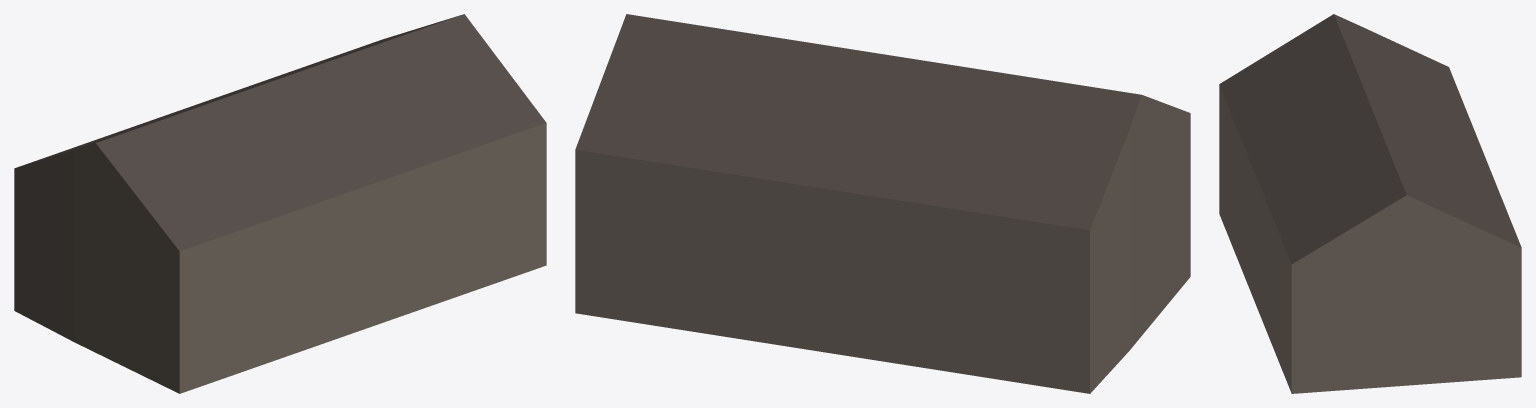
3 views of the same model, side by side, from view 1: azimuth 30°, elevation 25°; view 2: azimuth 150°, elevation 25°; view 3: azimuth 270°, elevation 25° (orthographic). The views are drawn at different scales.
Parts seen in each view (by area): view 1: HP-w1198842220; view 2: HP-w1198842220; view 3: HP-w1198842220.
Part boxes in pixels (x1,y1,x2,y2): HP-w1198842220: [14, 14, 546, 393]; HP-w1198842220: [575, 14, 1190, 393]; HP-w1198842220: [1219, 14, 1521, 393].
Bounding box in the file's own units: 19.65 × 8.83 × 12.72.
